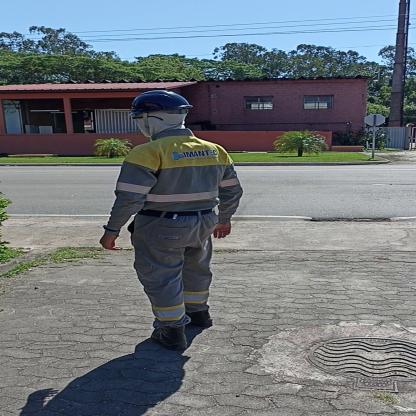Balaclava: (134, 110, 188, 136)
Capacete: (122, 86, 194, 112)
